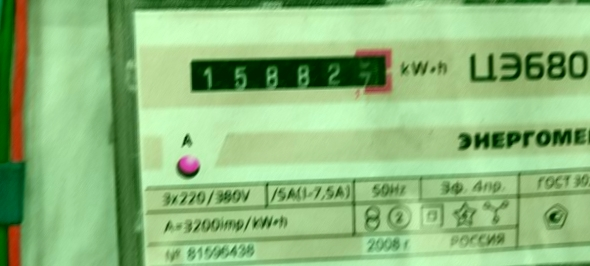1: (201, 63, 213, 89)
2: (325, 60, 341, 86)
5: (232, 63, 246, 90)
7: (356, 69, 371, 86)
8: (263, 63, 279, 88), (295, 62, 310, 87)
screen: (179, 43, 400, 105)
